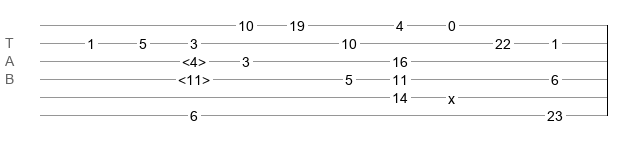0: (448, 18, 456, 28)
1: (87, 36, 95, 46), (551, 36, 559, 46)
10: (238, 18, 254, 28), (341, 36, 357, 46)
11: (392, 72, 408, 82)
14: (392, 90, 408, 100)
16: (392, 54, 408, 64)
19: (289, 18, 305, 28)
22: (495, 36, 511, 46)
23: (547, 108, 563, 118)
3: (190, 36, 198, 46), (242, 54, 250, 64)
4: (396, 18, 404, 28)
5: (139, 36, 147, 46), (345, 72, 353, 82)
6: (190, 108, 198, 118), (551, 72, 559, 82)
harmonic: (178, 72, 210, 82), (182, 54, 206, 64)
x: (448, 91, 455, 99)
